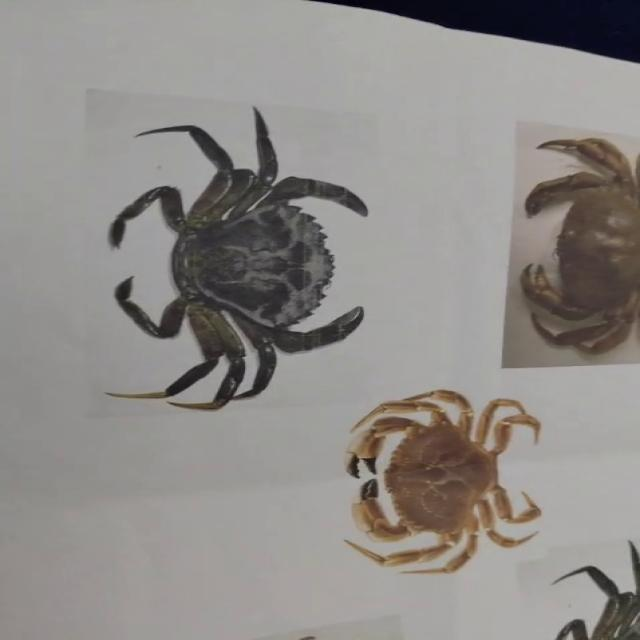egc: (108, 108, 366, 410)
